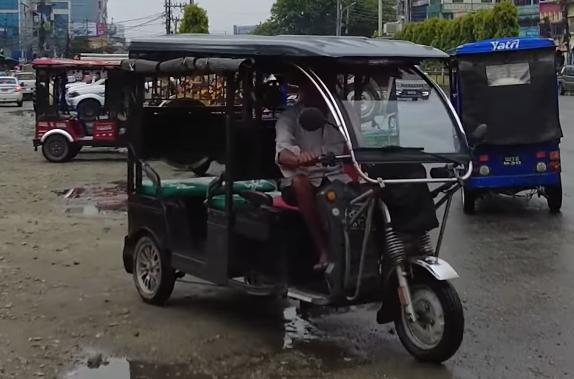e-rickshaw: (115, 23, 479, 363), (446, 38, 573, 216), (26, 51, 143, 164)
